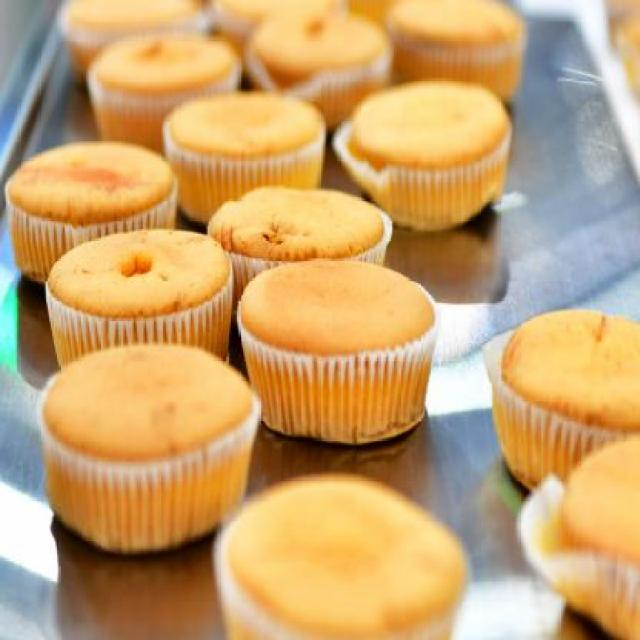Merendine packaged: (33, 344, 259, 561), (211, 472, 478, 640), (236, 258, 442, 447), (3, 136, 183, 296), (40, 226, 236, 372), (199, 182, 396, 304)
